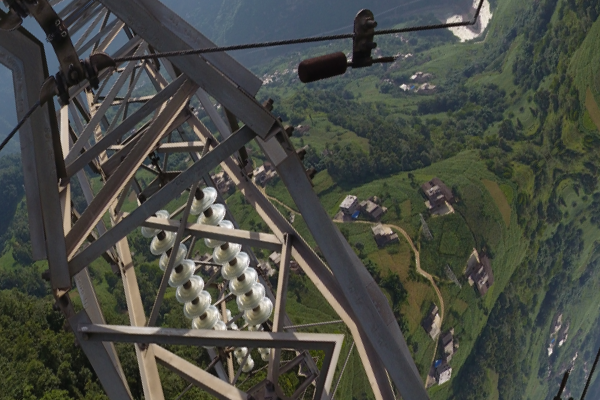damper_defect: (297, 6, 399, 85)
